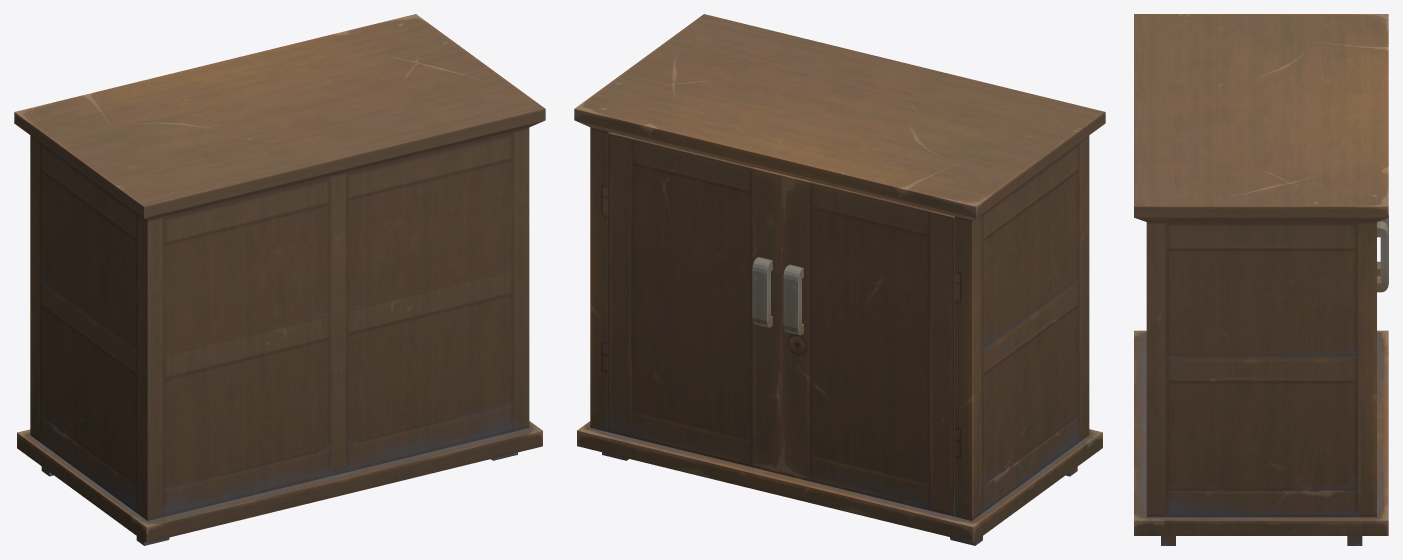
Rendered from P_Cabinet_015_S1_M01.obj.
3 renders of one model, left to right at view 1: azimuth 30°, elevation 25°; view 2: azimuth 150°, elevation 25°; view 3: azimuth 270°, elevation 25°, orthographic.
Size of the model in its own units: 1.79 by 1.5 by 1.
Materials: 3 (3 with a texture image).
